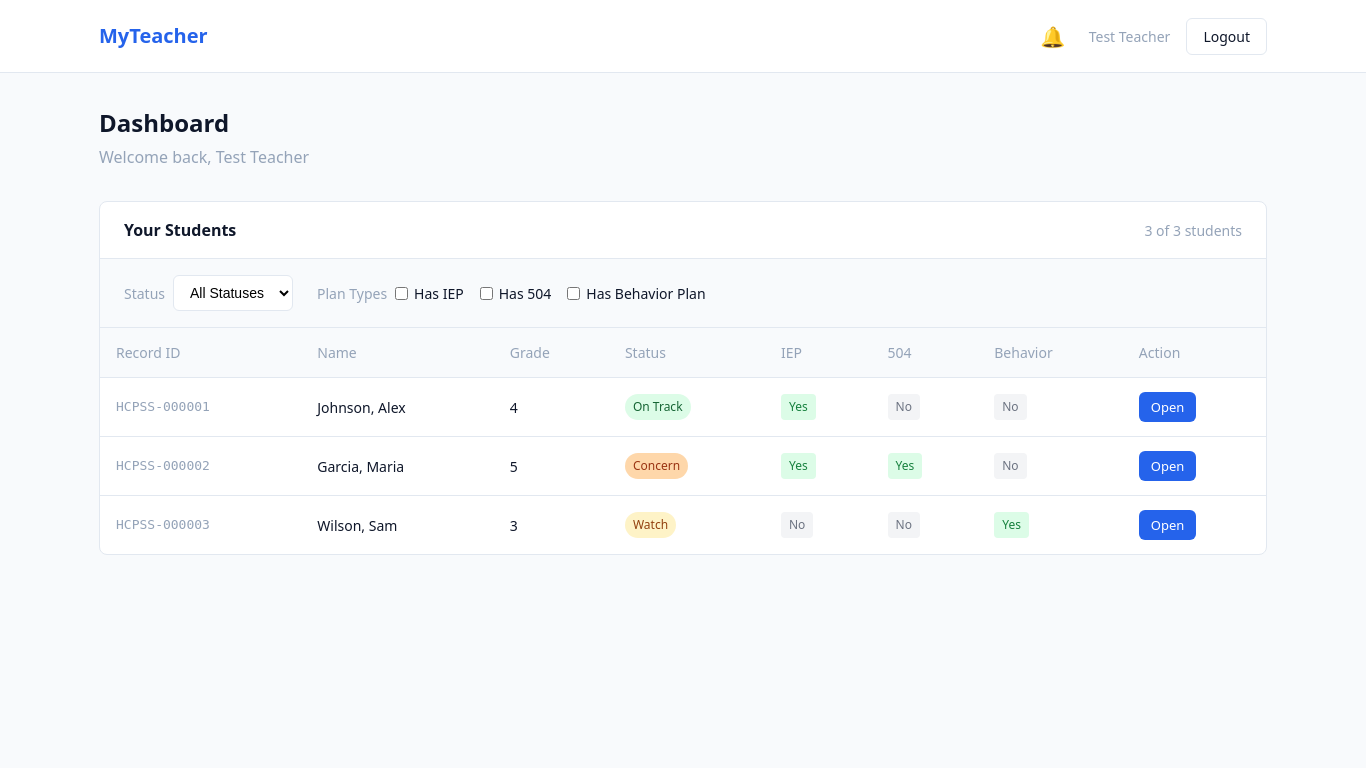
Test: Dashboard Page › Filtering › filters students by IEP checkbox
The image size is (1366, 768).
Expected: the text "3 of 3 students" is shown, top-left (1144, 220), bottom-right (1242, 240)
// Check "Has IEP"
Click the checkbox labelled "Has IEP".
click(402, 293)  # box top-left (395, 286), bottom-right (408, 300)
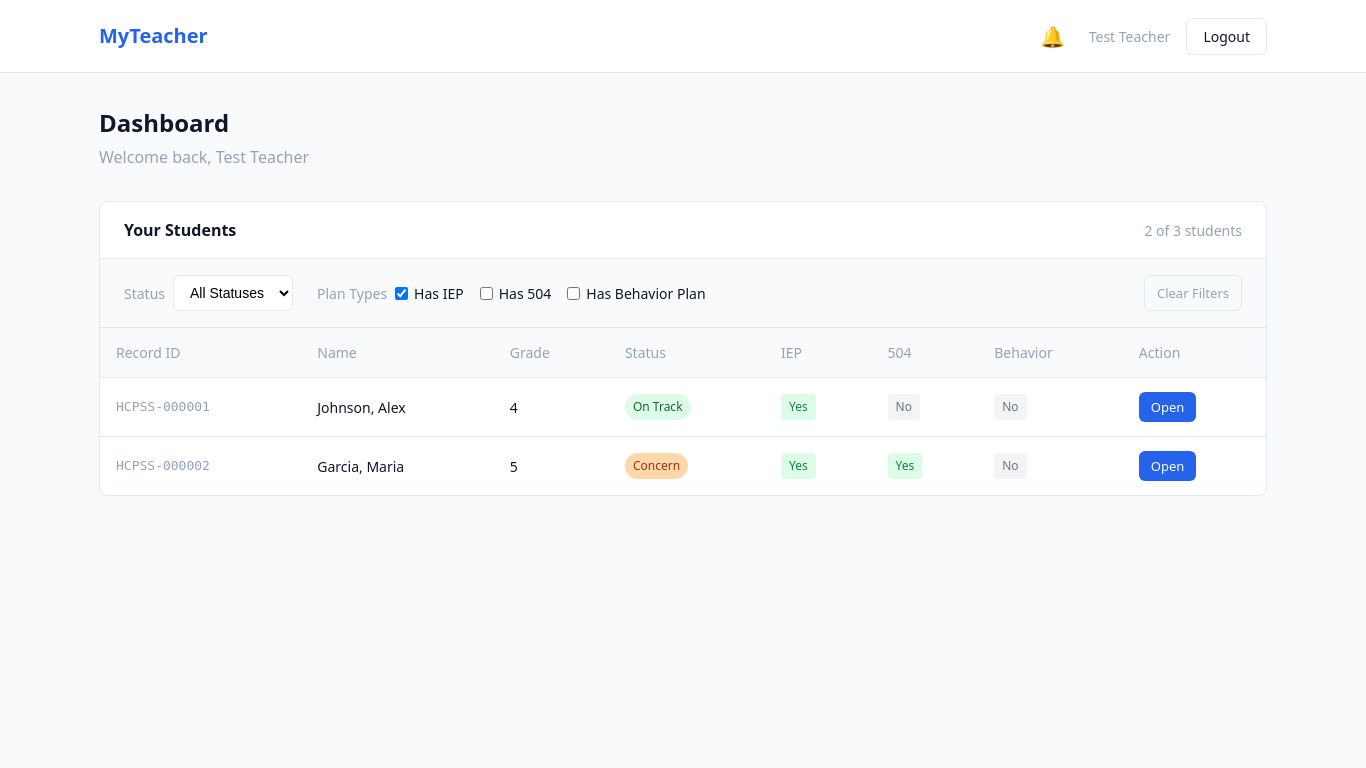
Expected: the text "Johnson, Alex" is shown, top-left (301, 378), bottom-right (494, 436)
Result: the text "2 of 3 students" is shown at top-left (1144, 220), bottom-right (1242, 240)
Result: the text "Wilson, Sam" is gone
